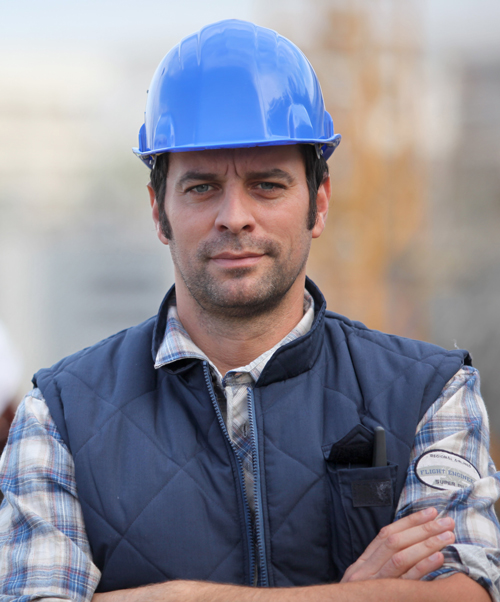casque: (72, 2, 395, 457)
